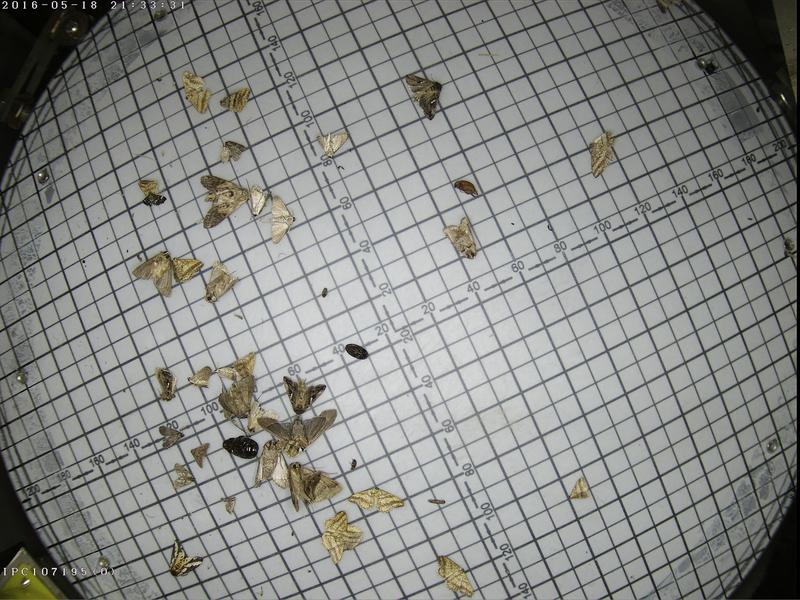Spodoptera litura: (257, 436, 283, 486)
holotrichia oblita: (222, 433, 257, 458)
